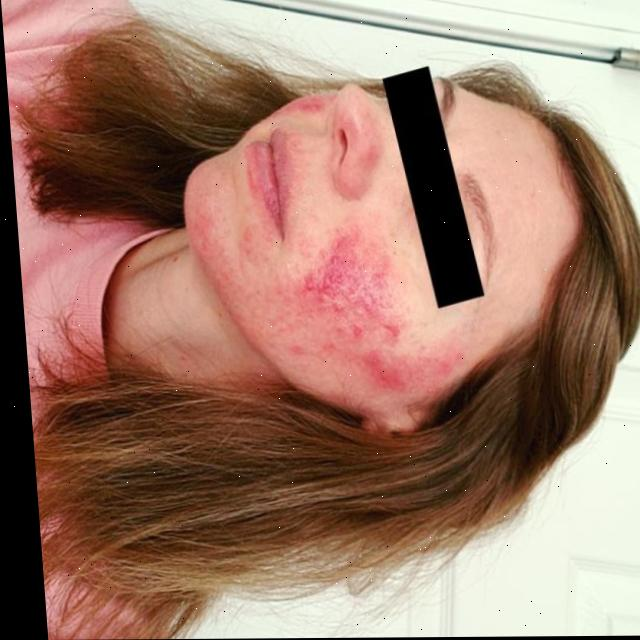Rosacea: (295, 241, 421, 382), (190, 198, 263, 276), (285, 90, 329, 115)
